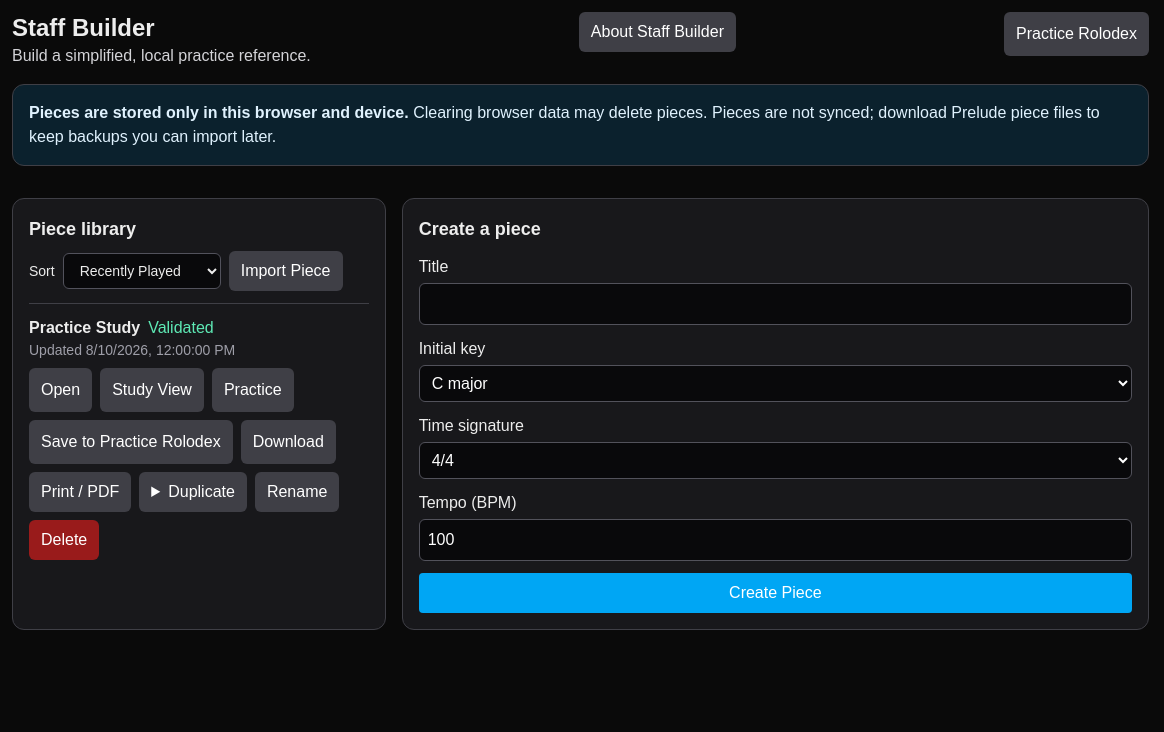
Test: Staff Builder session › fails safely when authoritative Phase A projection unexpectedly rejects a gated launch
Click the button with aria-label "Practice Practice Study" at (253, 390), box [212, 368, 294, 412]
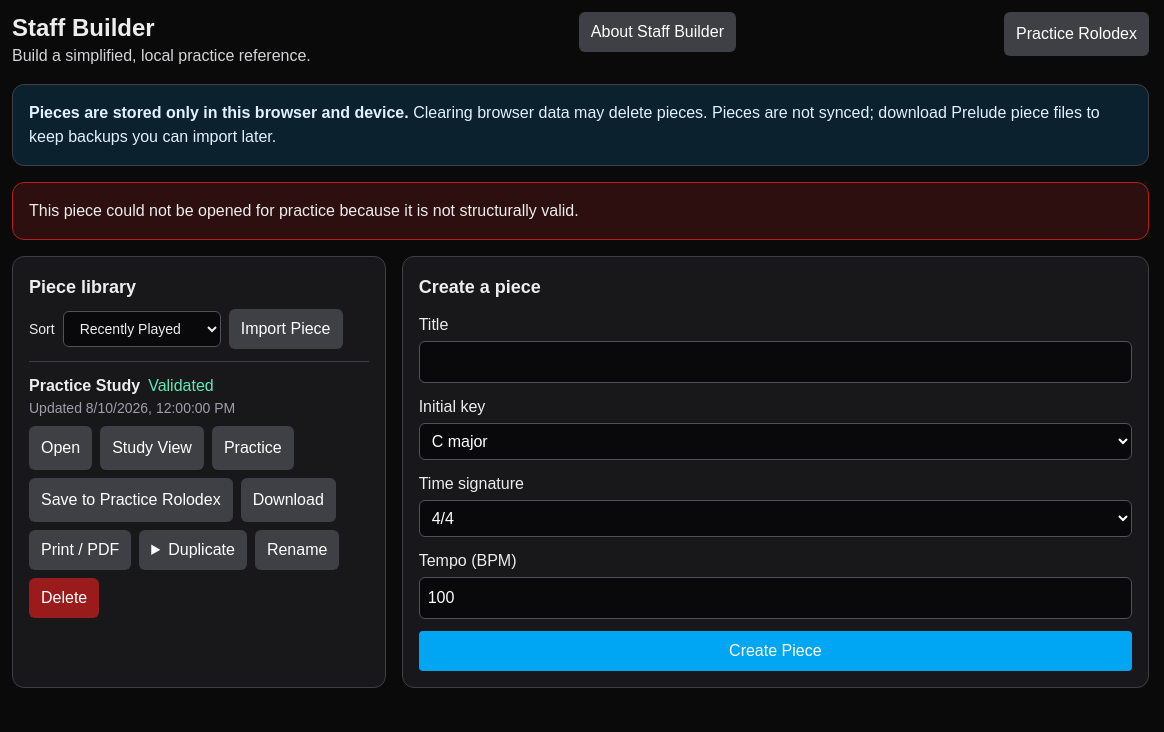
Check: the message shows "could not be opened for practice", box [29, 202, 579, 219]
